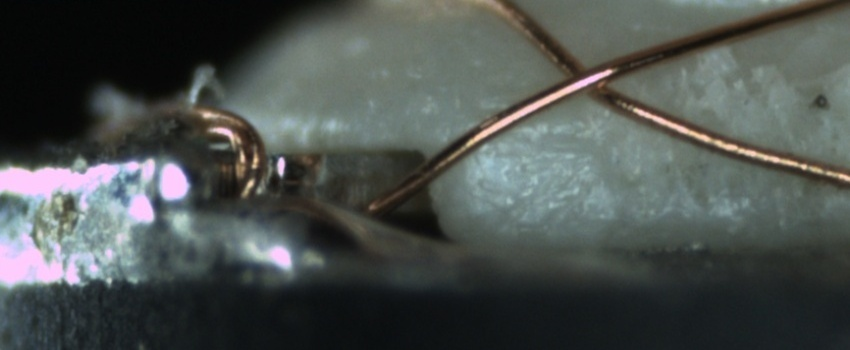CL: (539, 43, 632, 108)
DL: (469, 115, 607, 179)
TE: (167, 95, 277, 204)
